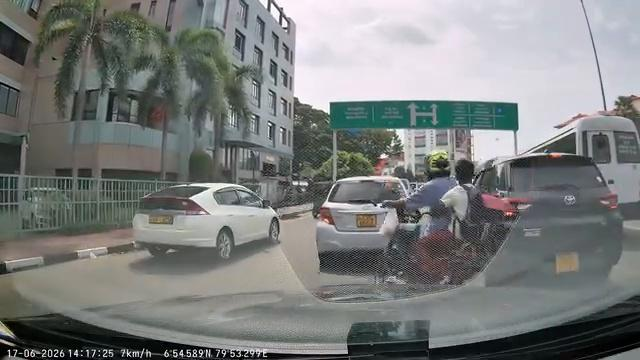no helmet: (451, 156, 480, 189)
